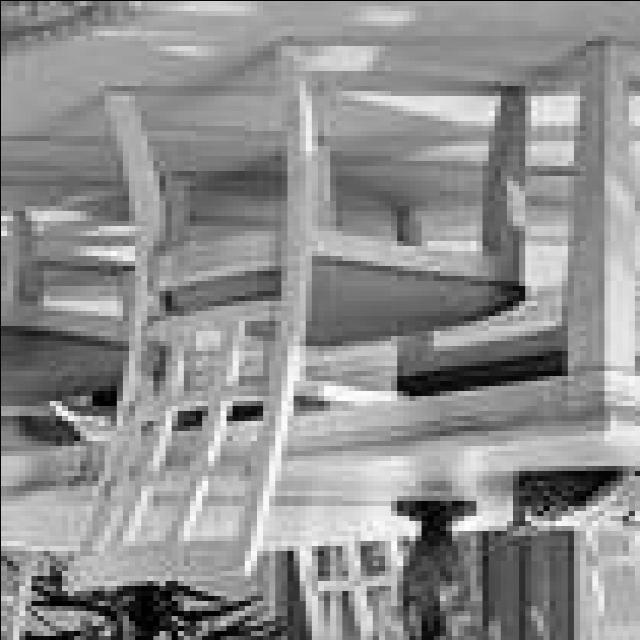chair: (59, 37, 532, 595)
